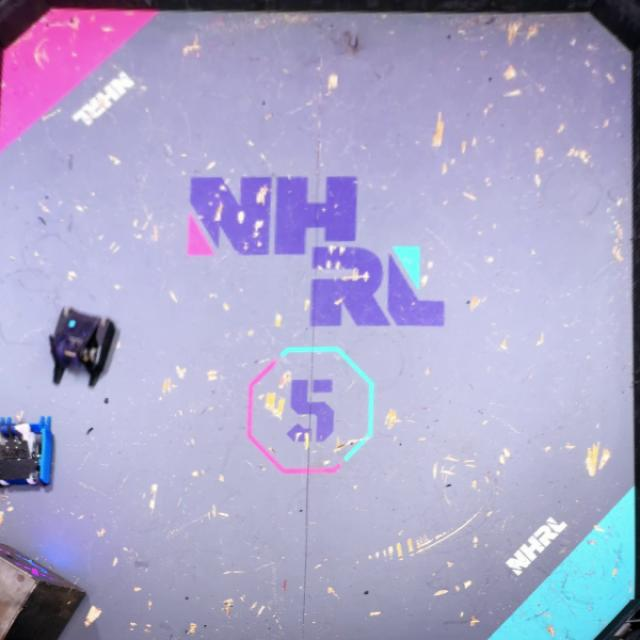housebot: (1, 542, 90, 640)
robot: (48, 306, 116, 386), (0, 414, 57, 492)
